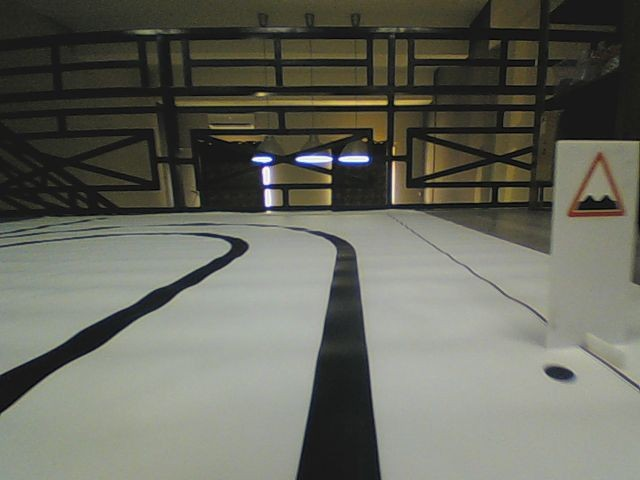Nerov: (566, 150, 626, 217)
